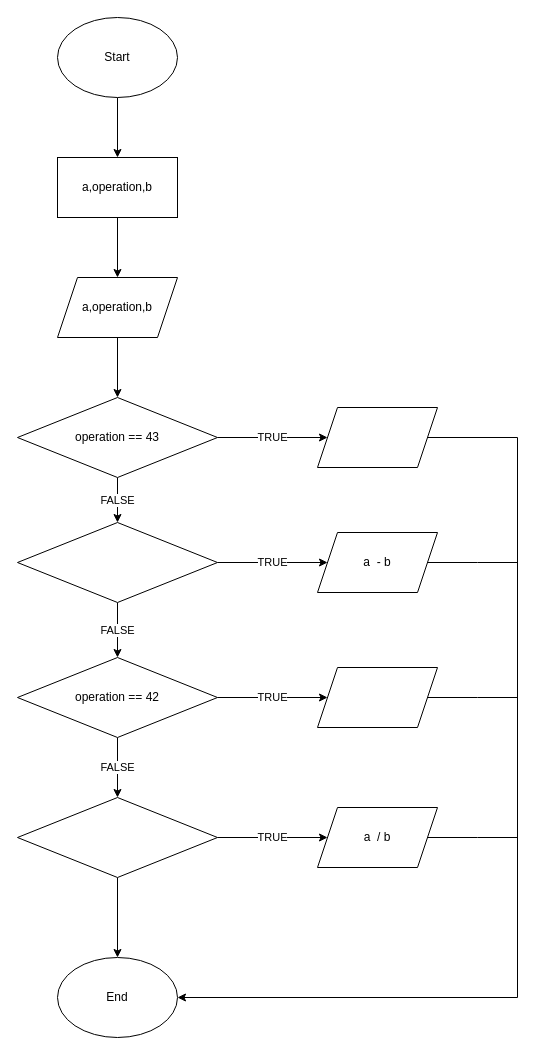
This 543x1055 diagram has some shape labels left out. The shapes that lost their labels are listed below. From the top down, each one's centre as x and y in pixels, then its label:
the point at 377,437: a + b
the point at 117,562: operation == 45
the point at 377,697: a * b
the point at 117,837: operation == 47
